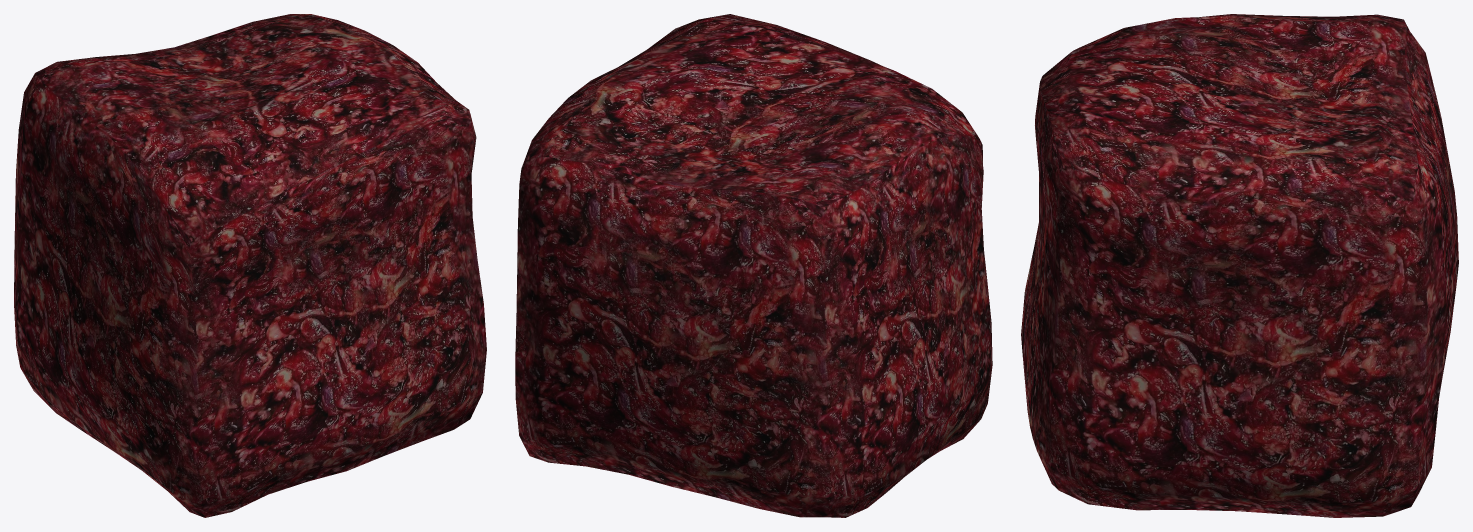
Rendered from bloom_growth_d.glb.
3 views of the same model, side by side, from view 1: azimuth 30°, elevation 25°; view 2: azimuth 150°, elevation 25°; view 3: azimuth 270°, elevation 25° (orthographic). The views are drawn at different scales.
Parts seen in each view (by area): view 1: body; view 2: body; view 3: body.
Part boxes in pixels (x1,y1,x2,y2): body: [14, 14, 486, 517]; body: [515, 14, 992, 517]; body: [1021, 14, 1458, 517].
Size of the model in its own units: 0.828 by 0.8 by 0.8291.
1 material, 1 textured.
